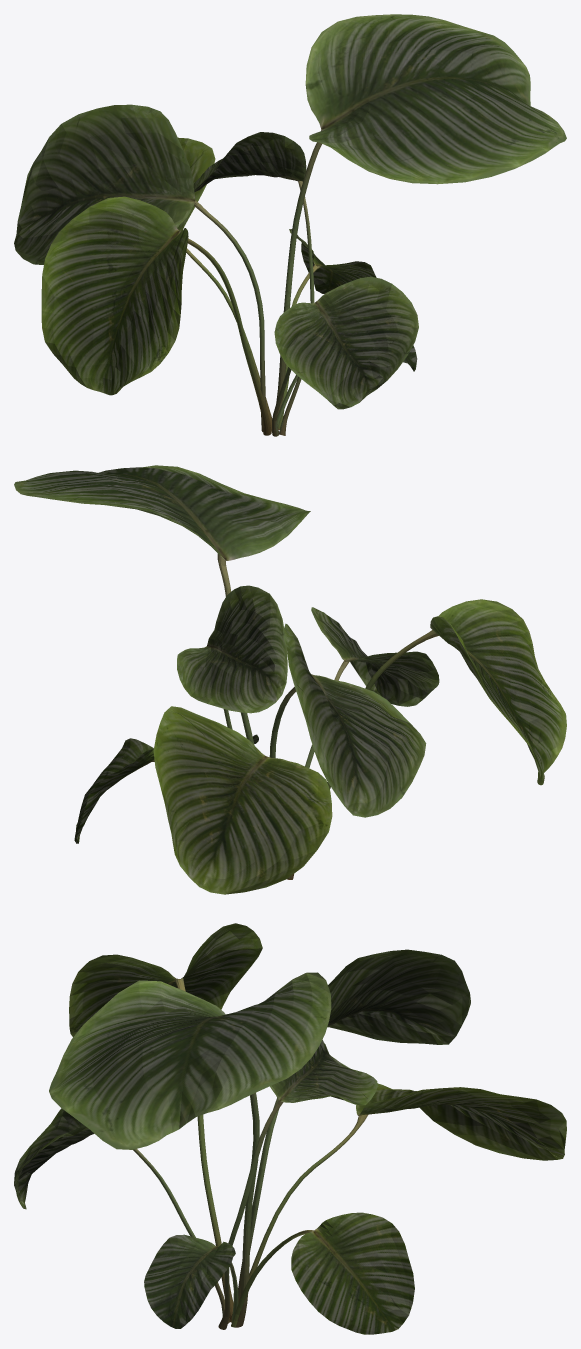
File: calathea.glb
The picture shows the model from 3 angles, top to bottom: view 1: azimuth 30°, elevation 25°; view 2: azimuth 150°, elevation 25°; view 3: azimuth 270°, elevation 25°; orthographic projection. The views are drawn at different scales.
Size of the model in its own units: 0.6006 by 0.4243 by 0.5256.
1 material, 1 textured.
